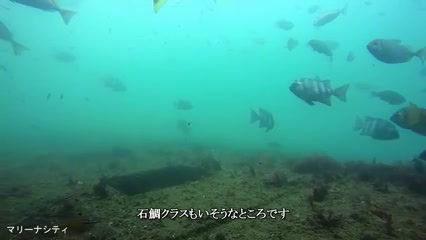ishidai: (285, 72, 350, 108), (354, 115, 403, 140)
smallfish: (244, 103, 291, 137), (305, 4, 352, 30)
